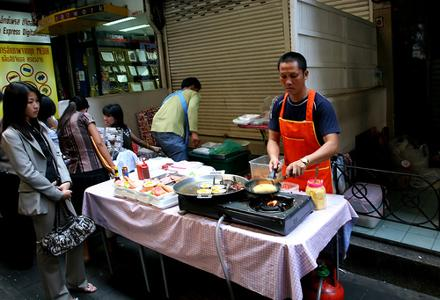person: (267, 52, 338, 195)
